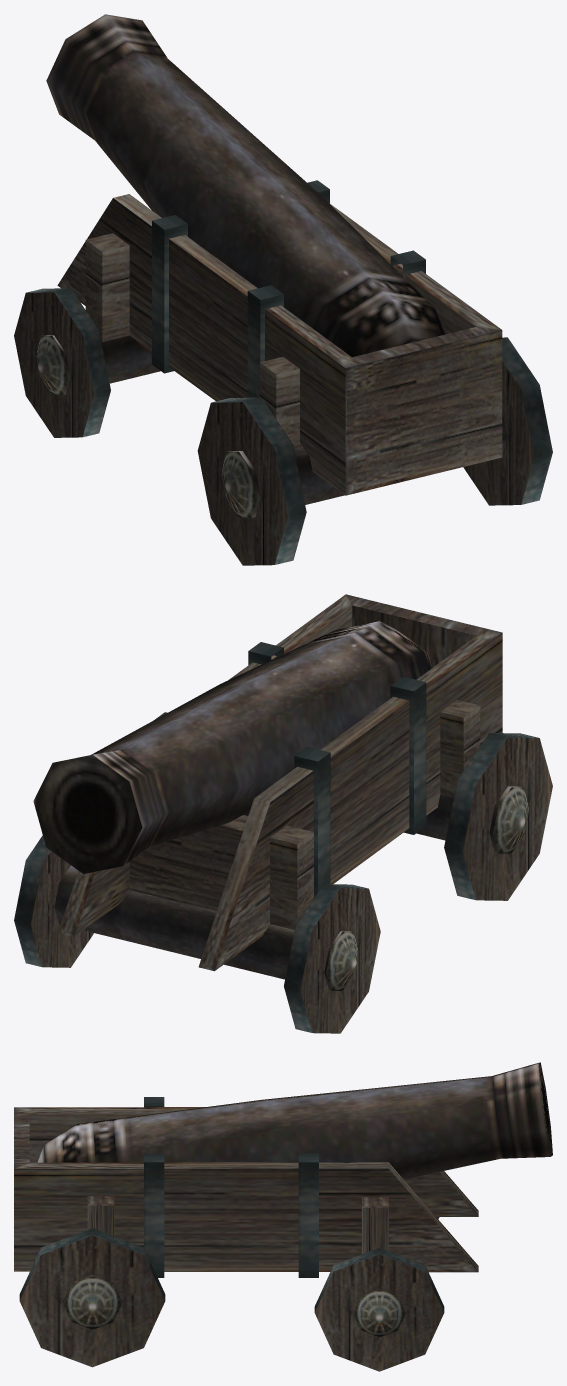
The model's file is saveicon.ico.obj.
3 renders of one model, top to bottom at view 1: azimuth 30°, elevation 25°; view 2: azimuth 150°, elevation 25°; view 3: azimuth 270°, elevation 25°, orthographic. The views are drawn at different scales.
Bounding box in the file's own units: 1.79 × 1.69 × 3.26.
1 material, 1 textured.
